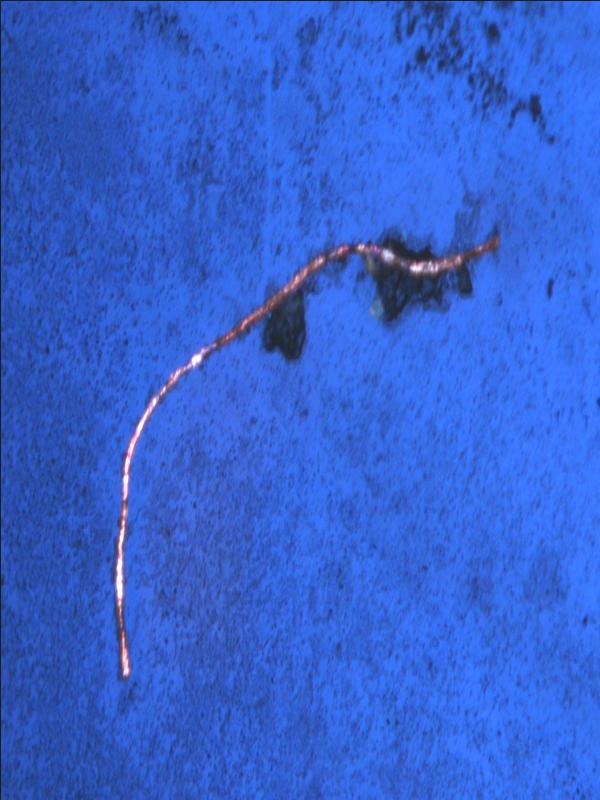microplastic: (113, 220, 500, 680)
